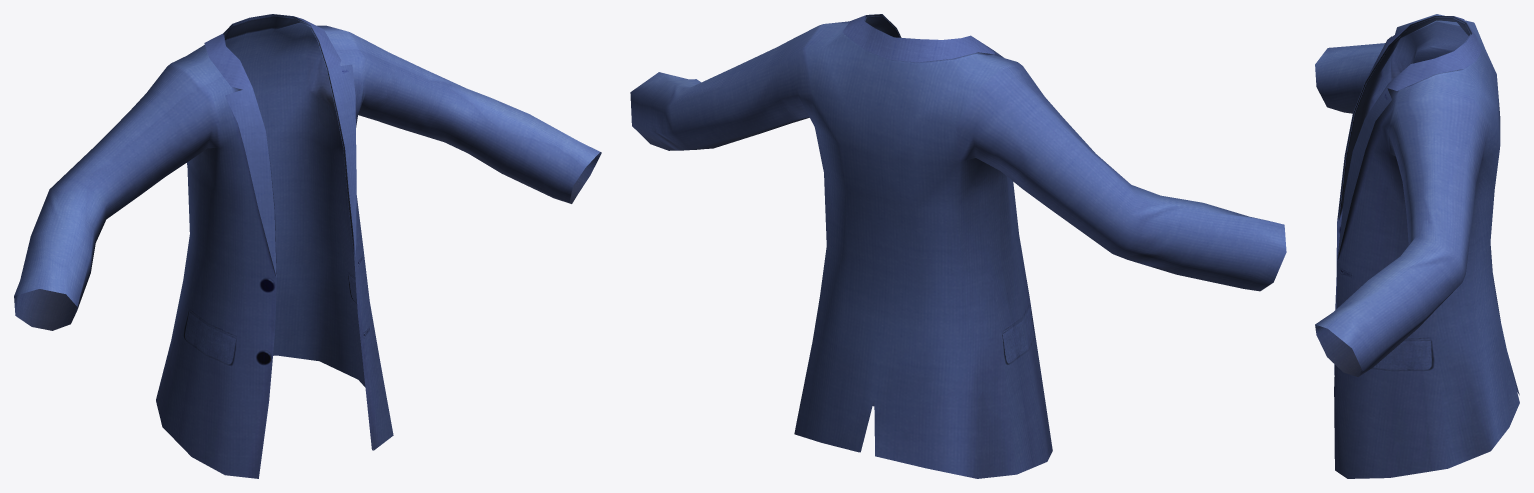
The model's file is TPSuit.fbx.
3 renders of one model, left to right at view 1: azimuth 30°, elevation 25°; view 2: azimuth 150°, elevation 25°; view 3: azimuth 270°, elevation 25°, orthographic. The views are drawn at different scales.
Visible parts, largest first — view 1: TPSuit; view 2: TPSuit; view 3: TPSuit.
Part boxes in pixels (x1,y1,x2,y2): TPSuit: (14,14,601,478); TPSuit: (630,14,1286,478); TPSuit: (1315,14,1519,478).
Size of the model in its own units: 96.33 by 62.52 by 28.34.
Materials: 1 (1 with a texture image).
